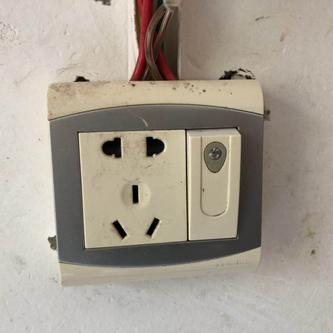switch: (186, 129, 239, 241)
